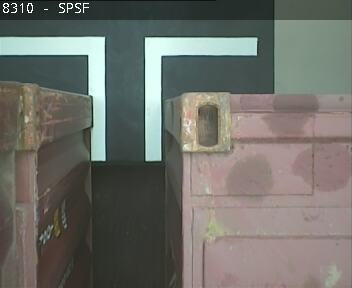groundmarker_1: (1, 35, 256, 160)
